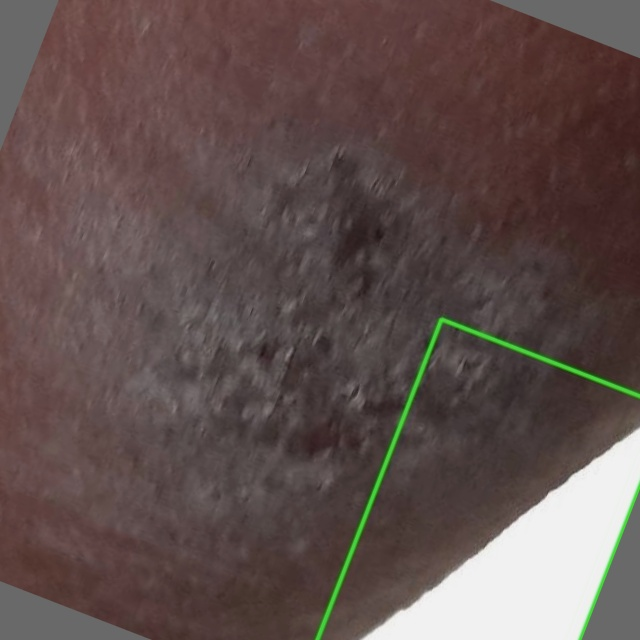Contact Dermatitis: (317, 319, 639, 639)
